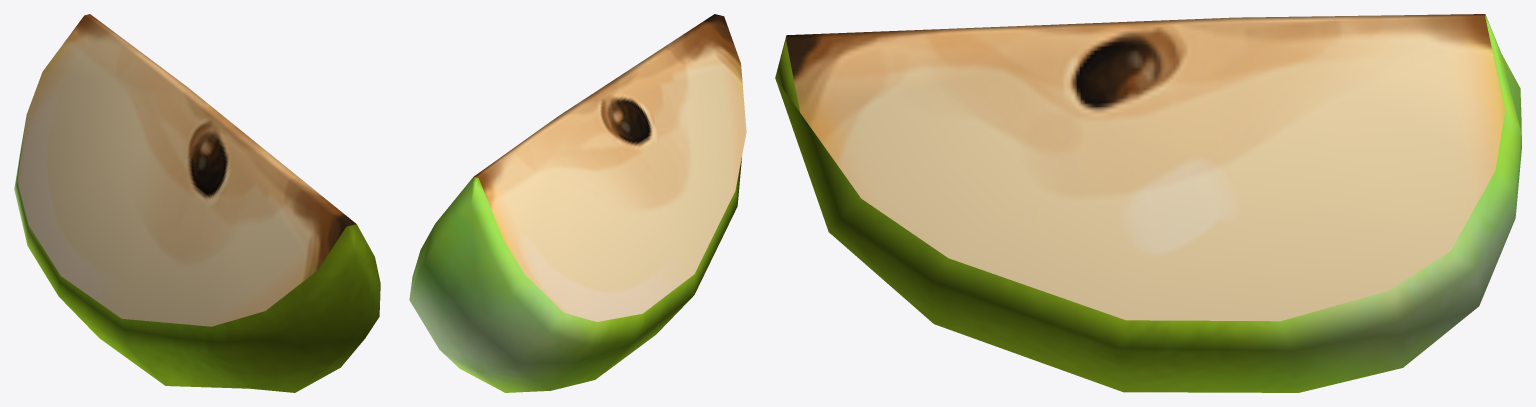
The model's file is 002-GrnApple_GrapefruitHalfSlice.FBX.
3 views of the same model, side by side, from view 1: azimuth 30°, elevation 25°; view 2: azimuth 150°, elevation 25°; view 3: azimuth 270°, elevation 25° (orthographic). The views are drawn at different scales.
Parts seen in each view (by area): view 1: 002-GrnApple_GrapefruitHalfSlice; view 2: 002-GrnApple_GrapefruitHalfSlice; view 3: 002-GrnApple_GrapefruitHalfSlice.
Part boxes in pixels (x1,y1,x2,y2): 002-GrnApple_GrapefruitHalfSlice: (14,14,380,392); 002-GrnApple_GrapefruitHalfSlice: (409,14,746,392); 002-GrnApple_GrapefruitHalfSlice: (775,14,1521,392).
Bounding box in the file's own units: 4.23 × 5.31 × 10.
